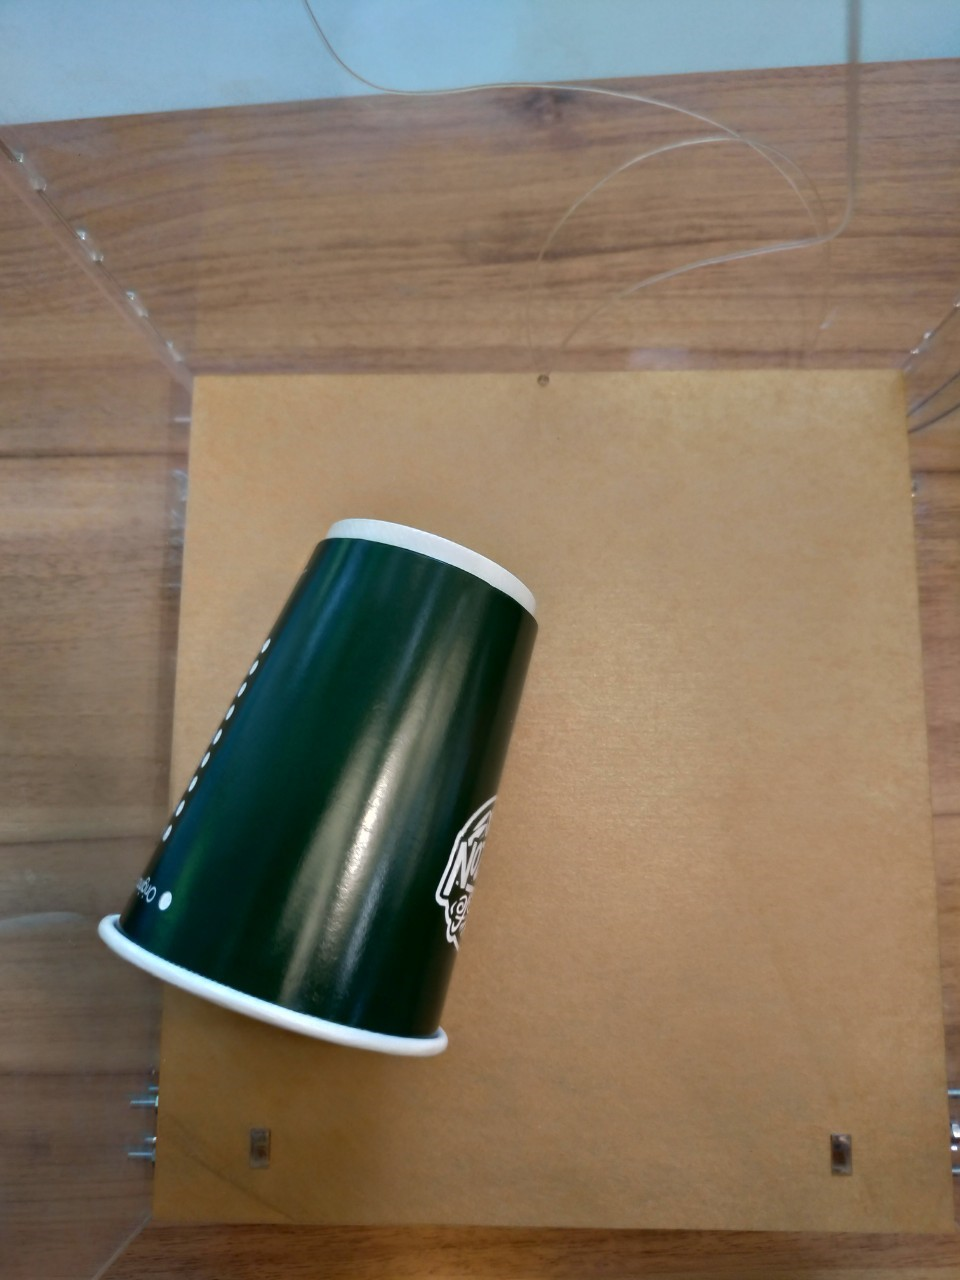PaperCup: (98, 517, 541, 1059)
